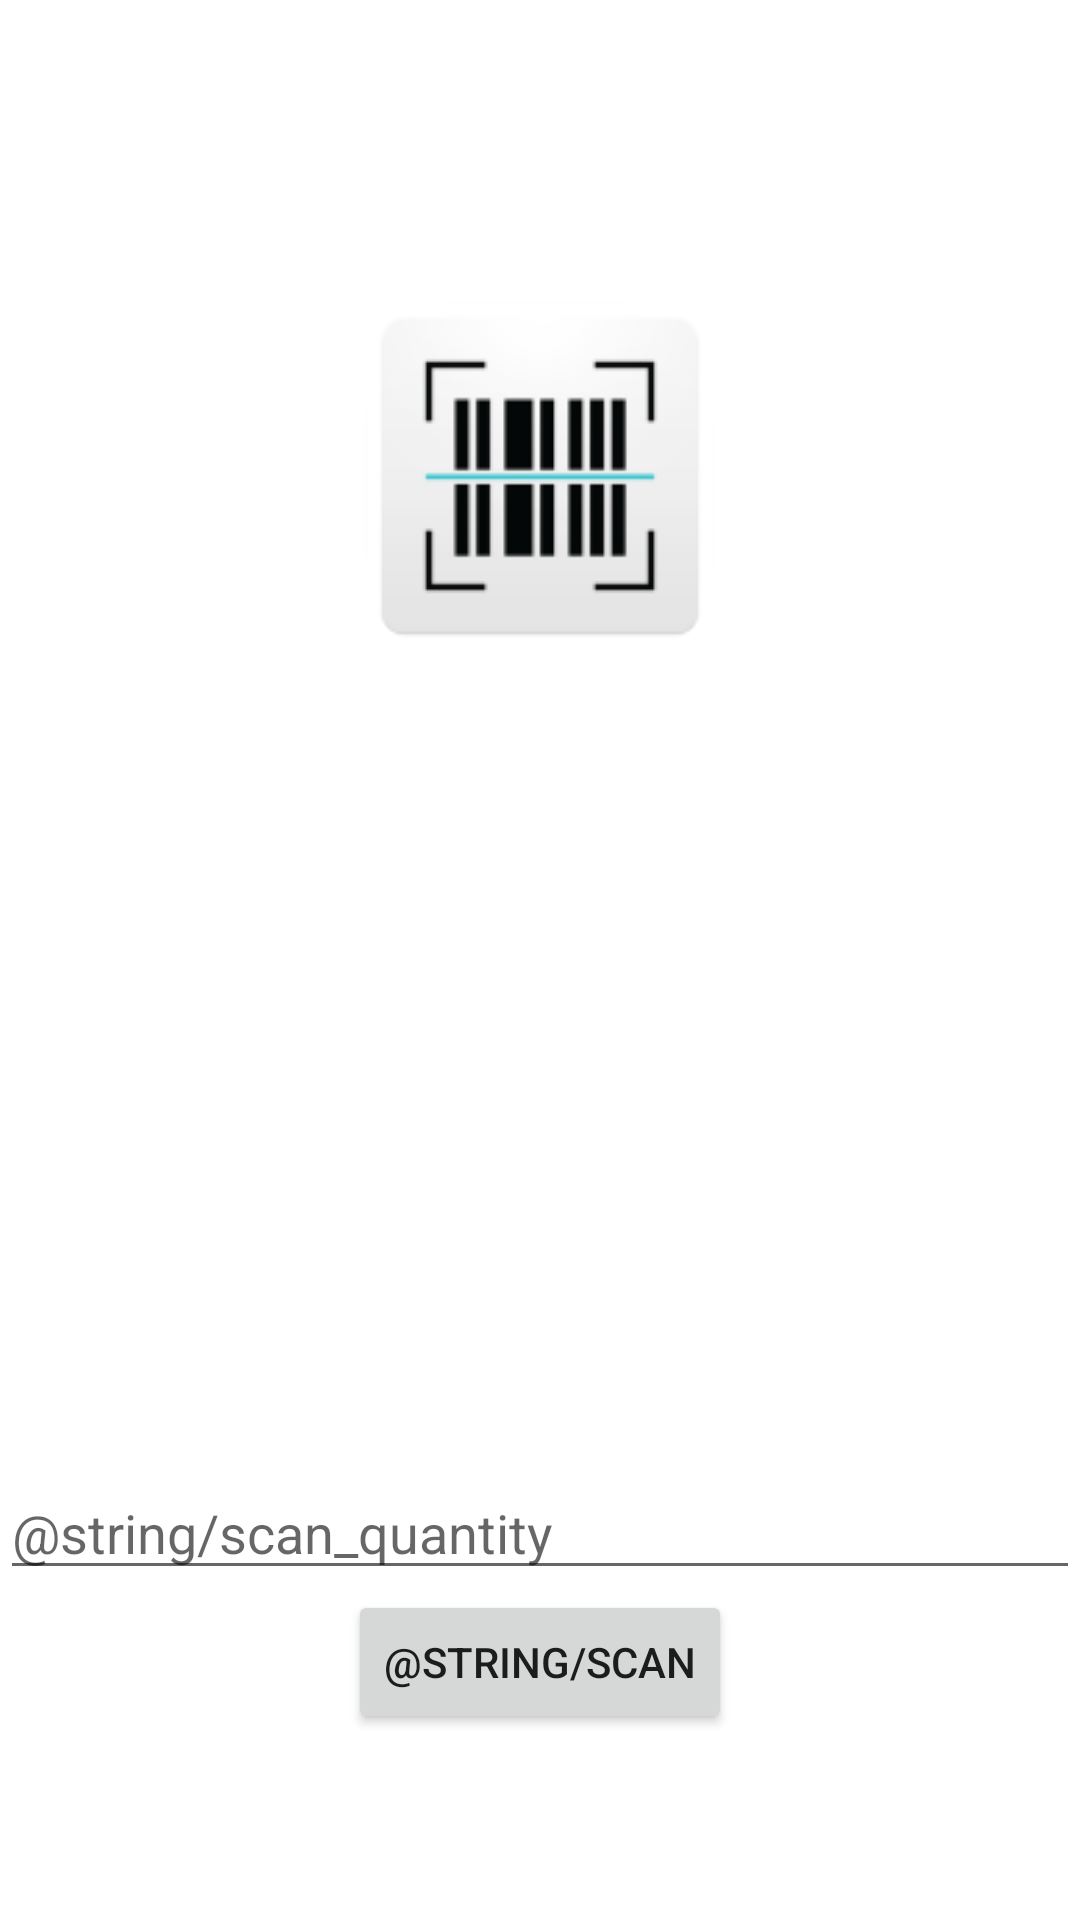

Where to tap for icons on this 1080px x 1920px app screen, as (x=x, y=y):
barcode scanning: (x=540, y=496)
